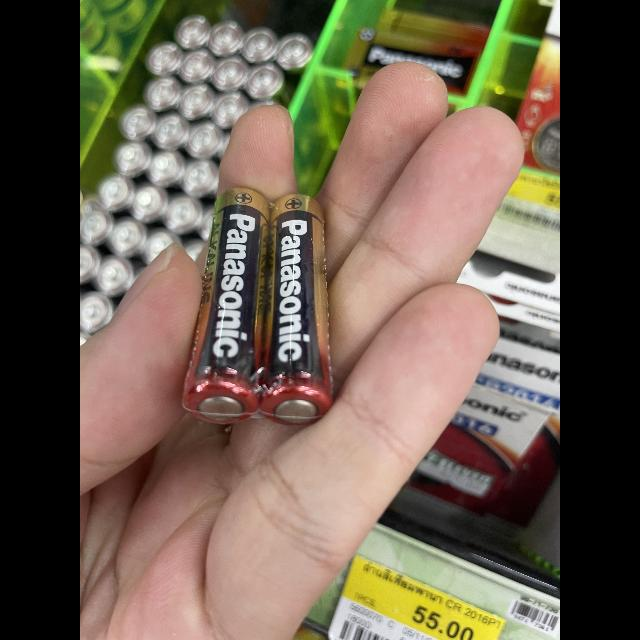battery: (172, 178, 268, 444), (258, 178, 346, 438)
